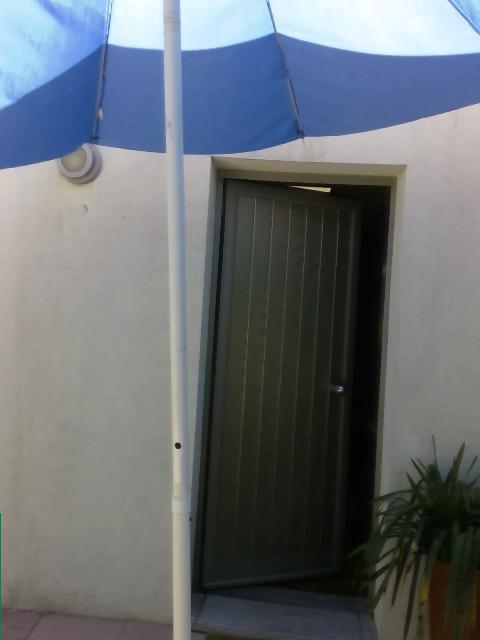semi_door: (188, 153, 401, 614)
